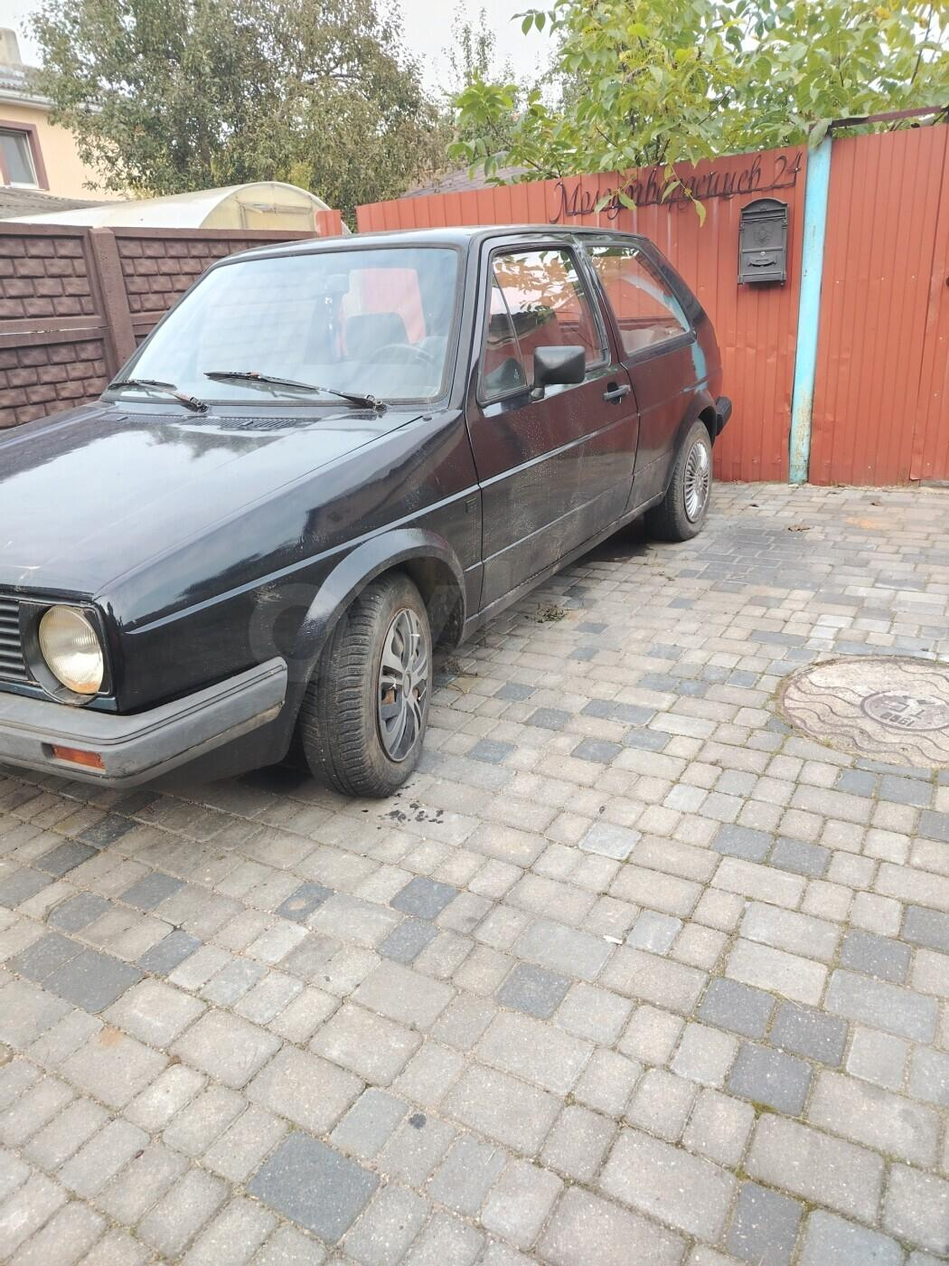Golf_1983-1992: (0, 206, 720, 832)
